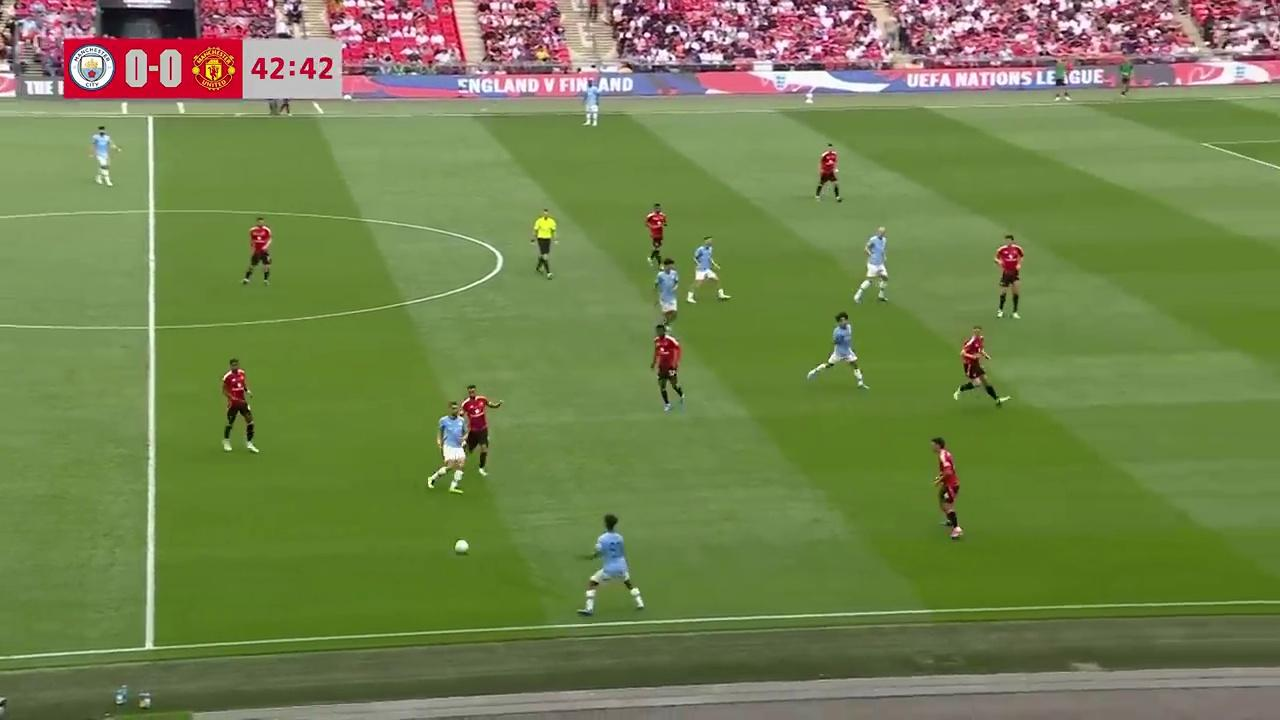ball: (454, 537, 470, 554)
player: (576, 513, 645, 613), (807, 310, 870, 390), (953, 325, 1008, 407), (458, 383, 503, 477), (427, 402, 469, 493), (220, 357, 259, 453), (930, 436, 963, 538), (649, 328, 685, 412), (852, 226, 890, 304), (993, 233, 1024, 319), (690, 236, 729, 303), (241, 217, 273, 286), (89, 125, 121, 186), (654, 258, 680, 330), (814, 143, 842, 202), (644, 202, 667, 267), (582, 84, 599, 126)
referee: (530, 208, 558, 279)
